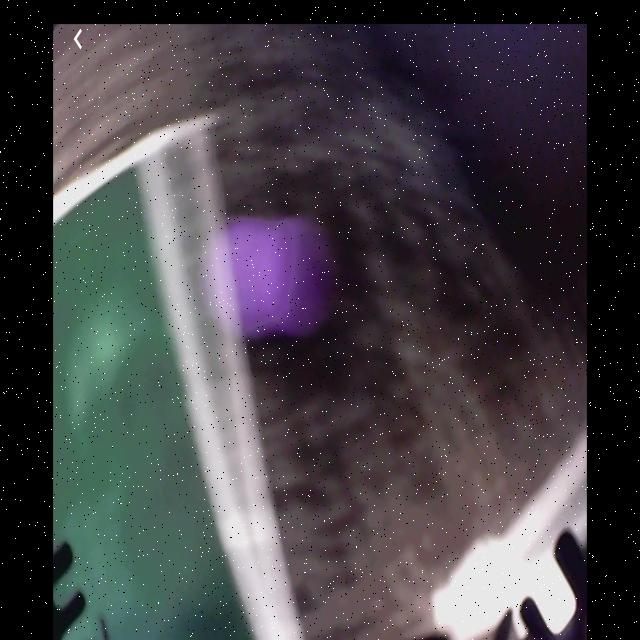ball: (217, 215, 316, 341)
